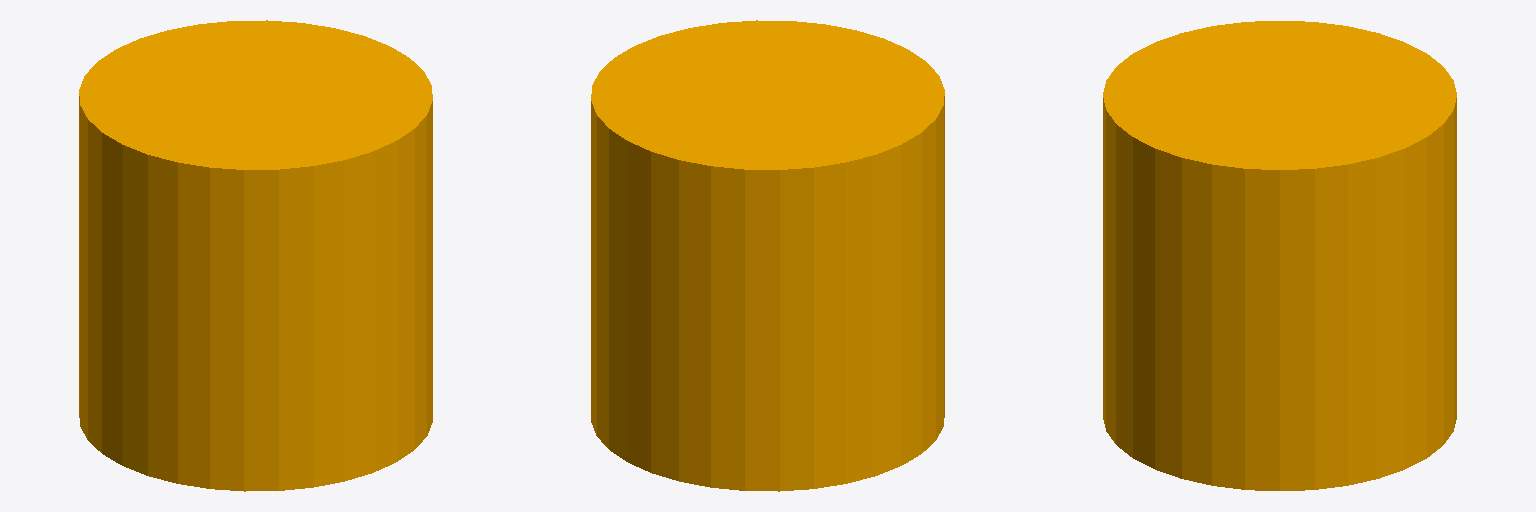
URDF robot description (index):
<?xml version="1.0"?>
<robot name="index">

	<material name="orange">
		<color rgba="1 0.5 0 1"/>
	</material>
	<material name="gold">
		<color rgba="1 0.7 0 1"/>
	</material>
	<material name="coral">
		<color rgba="1 0.5 0.2 1"/>
	</material>

	<link name="base_link">
		<visual>
			<geometry>
				<cylinder length="0.1" radius="0.05"/>
			</geometry>
			<material name="gold"/>
		</visual>
	</link>
</robot>

--- Facts derived from the render (not from the file) ---
3 views of the same robot in one strip: view 1: azimuth 30°, elevation 25°; view 2: azimuth 150°, elevation 25°; view 3: azimuth 270°, elevation 25° (orthographic).
Model index with 1 links and 0 joints (none), rooted at base_link, posed every joint at zero.
Visible links, largest first — view 1: base_link; view 2: base_link; view 3: base_link.
Link boxes in pixels (x1,y1,x2,y2): base_link: [79, 20, 432, 491]; base_link: [591, 20, 944, 491]; base_link: [1103, 21, 1456, 490].
Size in the robot's own frame: 0.1 by 0.1 by 0.1 metres.
Geometry: primitives only (box / cylinder / sphere), no mesh files.